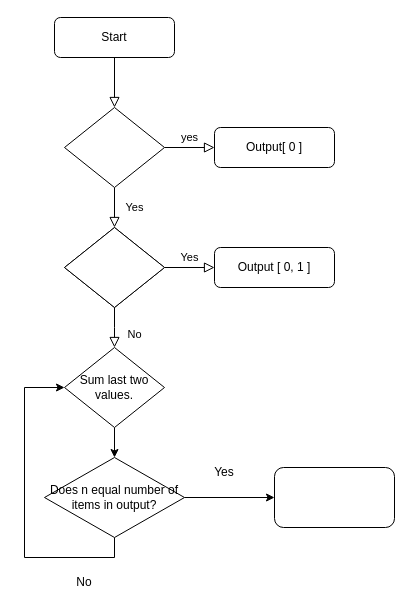
This 412x615 diagram has some shape labels left out. The centre of each missing label's shape, as x and y in pixels:
"is n 2 ?" belongs at (x=114, y=267).
"is n1 ?" belongs at (x=114, y=147).
"Output" belongs at (x=334, y=497).
